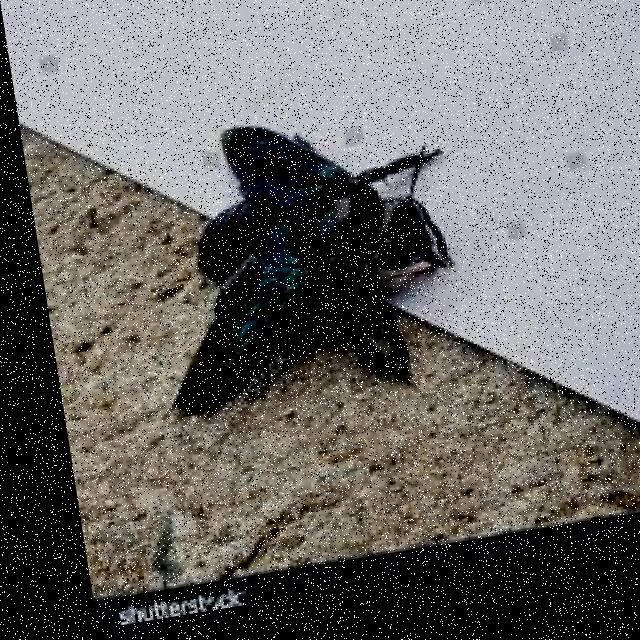Xylocopa: (140, 84, 489, 426)
